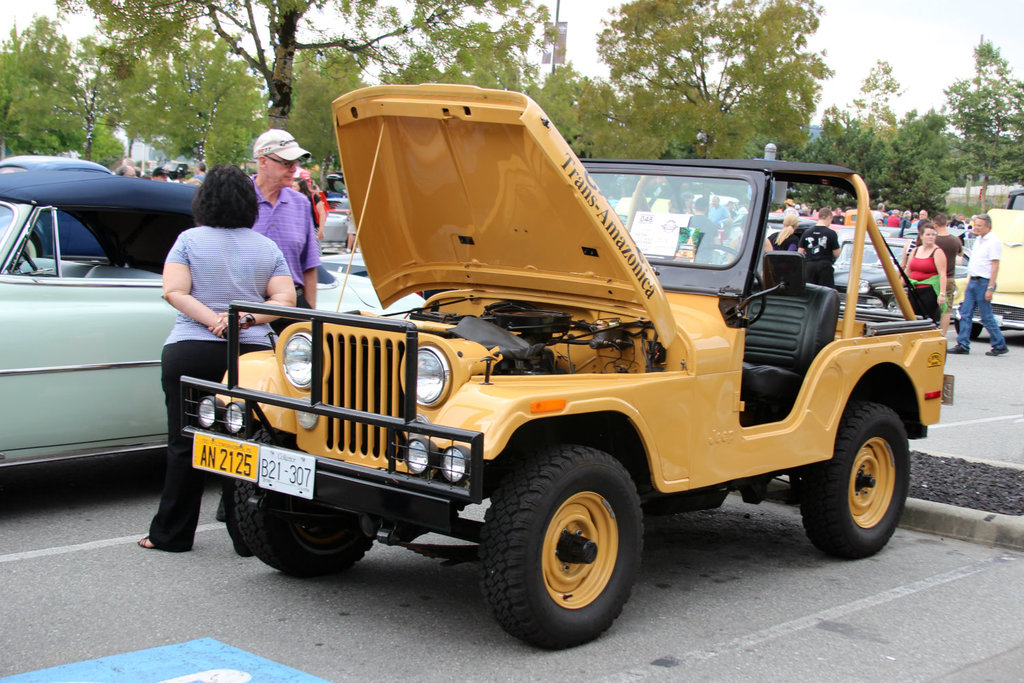Car: (0, 155, 1023, 471), (0, 175, 435, 483), (948, 178, 1023, 351), (826, 232, 980, 310), (722, 207, 837, 265), (311, 240, 417, 297), (0, 144, 118, 175), (317, 207, 357, 252)
